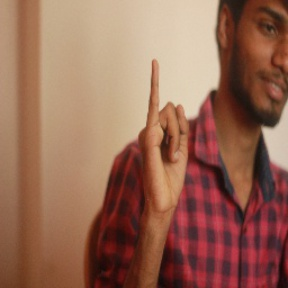I: (137, 58, 191, 214)
